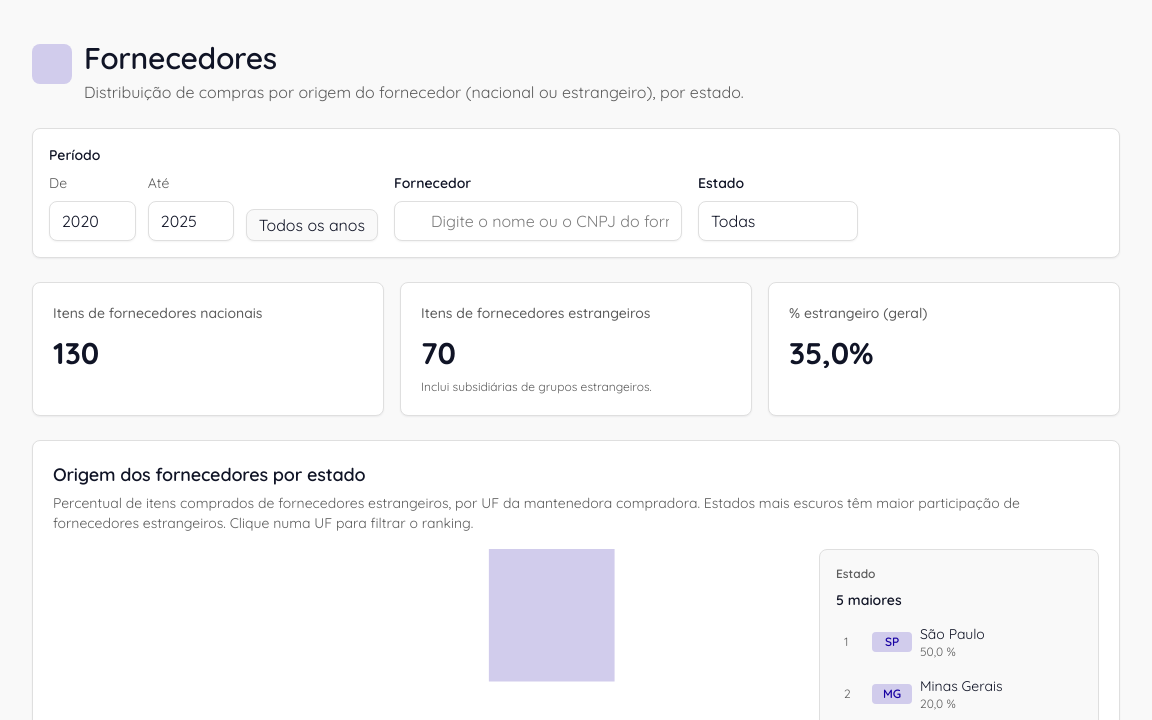
Scenario: Fornecedores › buscar e escolher um fornecedor filtra o ranking por fornecedor_id
Expected: the button "Minas Gerais (MG)" is shown, 489,549 -> 615,682
In the dropdown labelled "Fornecedor": (550, 221) 431,202 -> 669,240, type "unique"
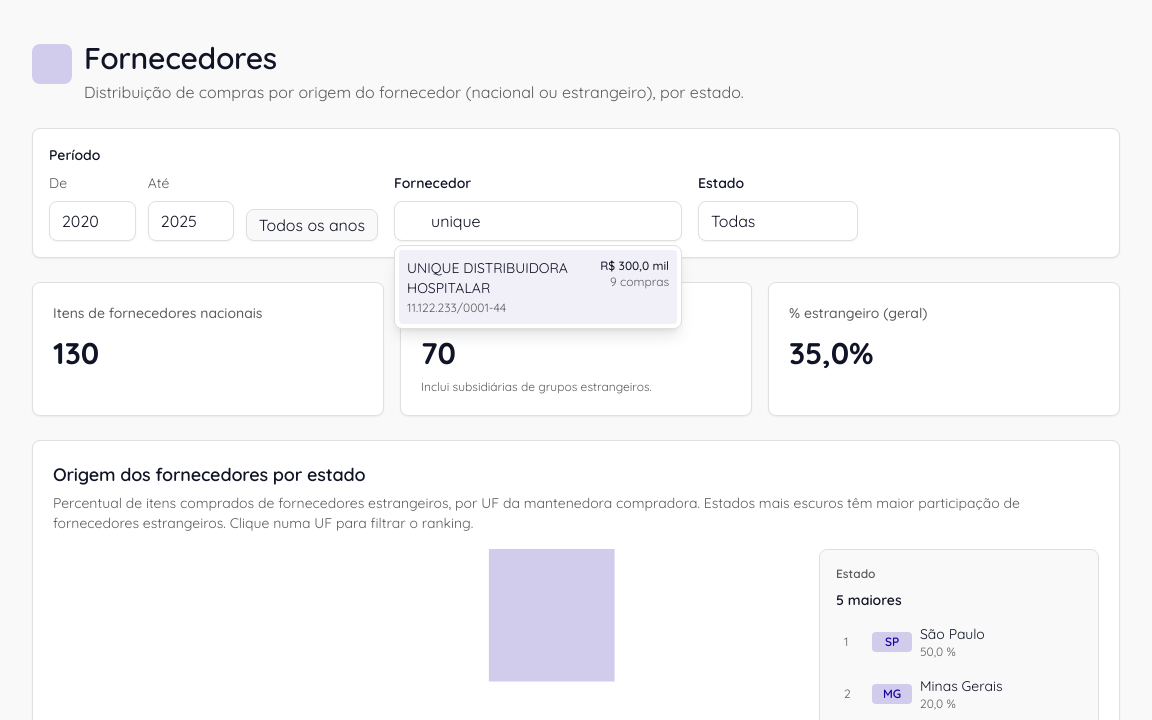
Click the text "UNIQUE DISTRIBUIDORA HOSPITALAR": (498, 278) 407,258 -> 588,298
(page scrolled)
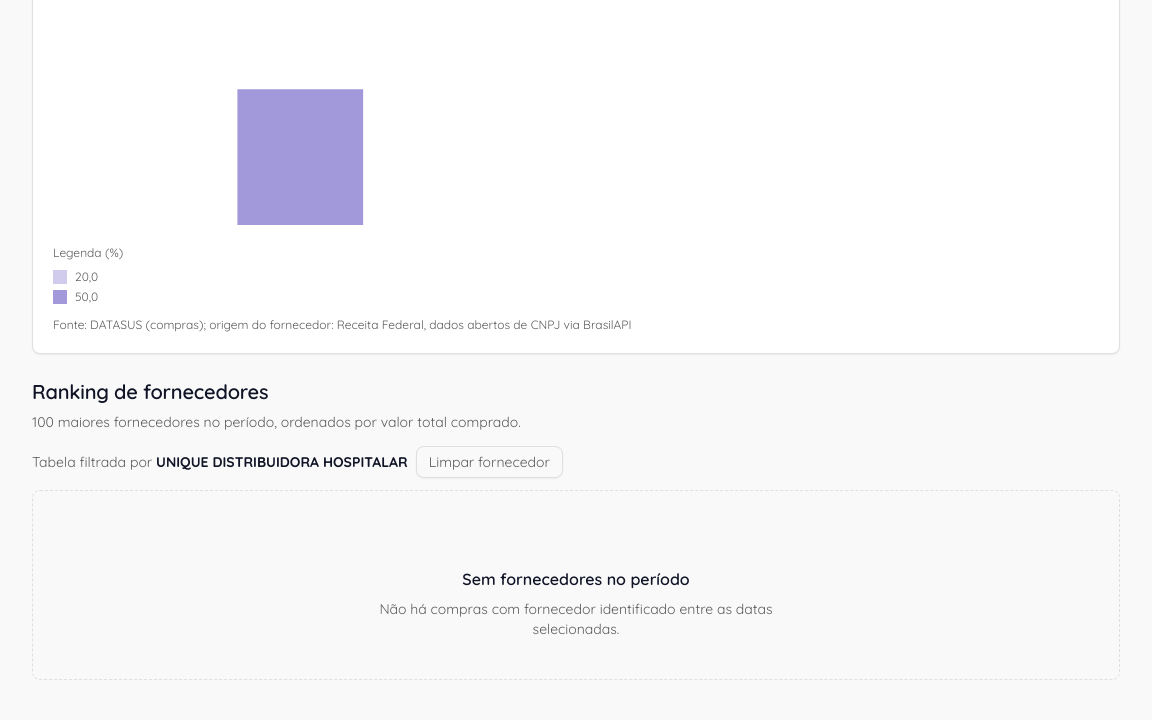
Expected: the text "Tabela filtrada por UNIQUE DISTRIBUIDORA HOSPITALAR" is shown, 32,452 -> 408,472
